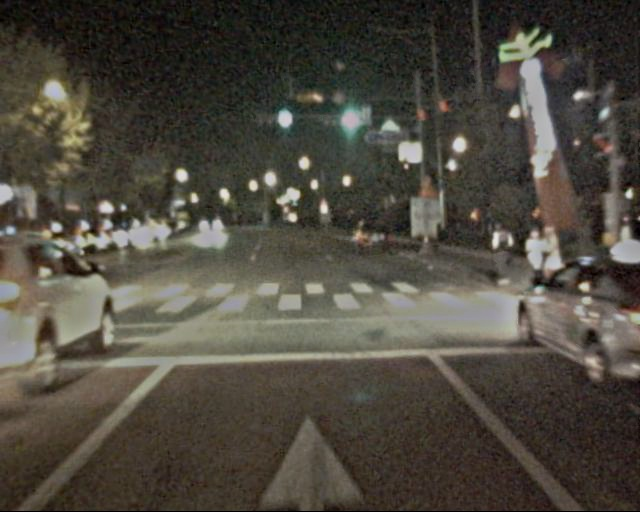person: (534, 218, 562, 291), (485, 215, 512, 290), (523, 226, 550, 297)
